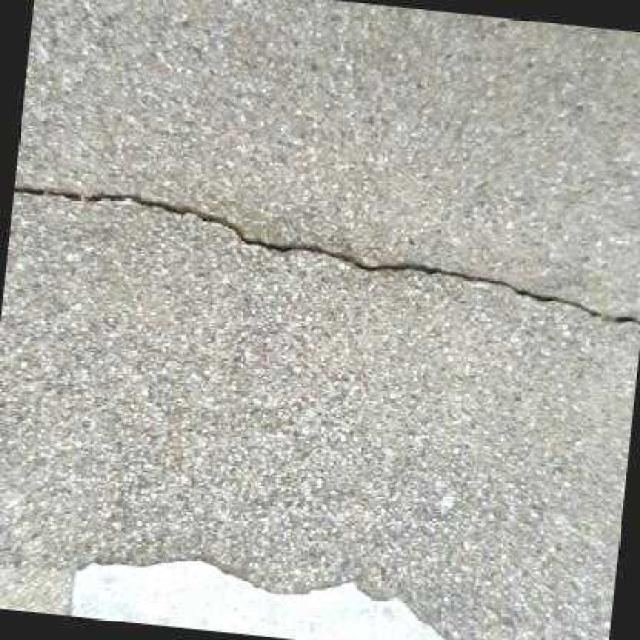D00: (12, 185, 640, 325)
